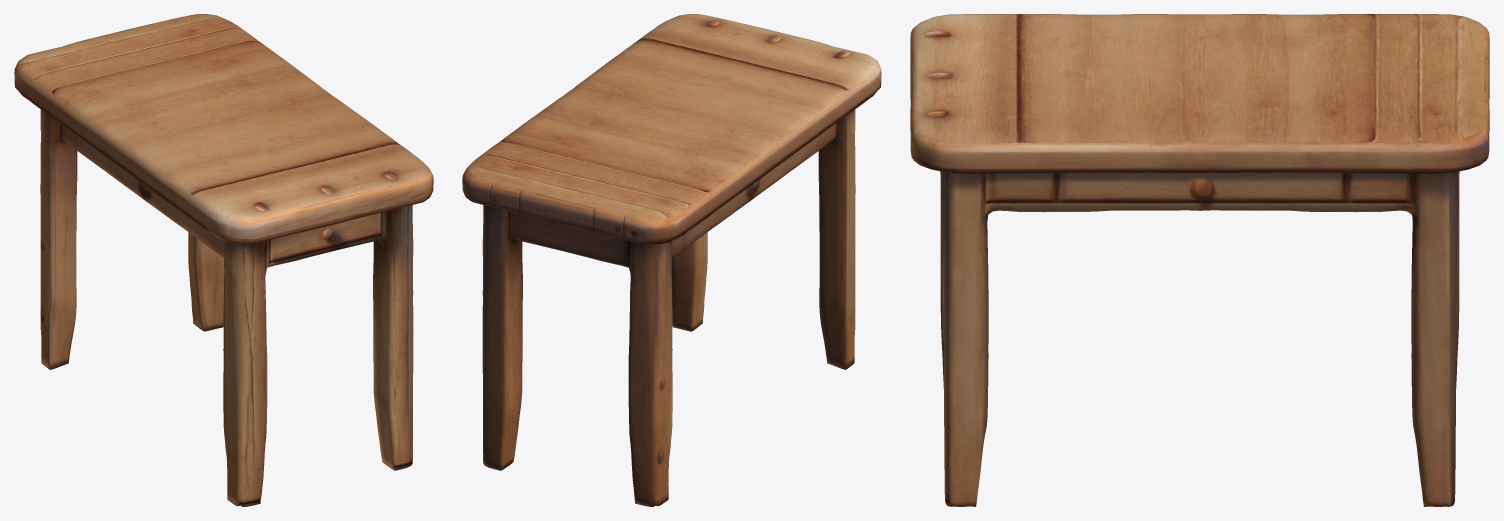
File: wooden_desk_solid_wo_0104145956_texture.fbx
The picture shows the model from 3 angles, left to right: view 1: azimuth 30°, elevation 25°; view 2: azimuth 150°, elevation 25°; view 3: azimuth 270°, elevation 25°; orthographic projection. The views are drawn at different scales.
Parts seen in each view (by area): view 1: Mesh1_Mesh1.005; view 2: Mesh1_Mesh1.005; view 3: Mesh1_Mesh1.005.
Part boxes in pixels (x1,y1,x2,y2): Mesh1_Mesh1.005: (14, 14, 433, 506); Mesh1_Mesh1.005: (462, 14, 881, 506); Mesh1_Mesh1.005: (910, 14, 1489, 506).
Bounding box in the file's own units: 108 × 144 × 200.
1 material, 1 textured.
